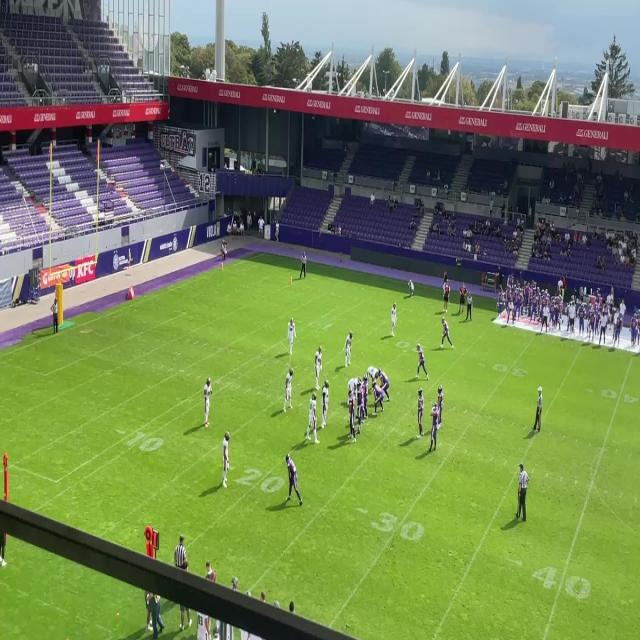1: (115, 427, 155, 450)
2: (232, 466, 262, 494)
3: (371, 504, 399, 543)
4: (533, 554, 559, 602)
american-football-players: (284, 452, 304, 509), (307, 392, 320, 447), (414, 341, 430, 381), (221, 430, 231, 490), (348, 390, 358, 446), (203, 377, 213, 431), (283, 367, 294, 415), (321, 377, 330, 434), (416, 386, 425, 442), (440, 315, 454, 351), (360, 378, 371, 423), (286, 316, 298, 356), (378, 368, 392, 401), (372, 384, 385, 416), (431, 402, 438, 455), (314, 344, 322, 389), (347, 375, 363, 397), (436, 385, 444, 428), (389, 302, 398, 339), (357, 381, 363, 436), (366, 363, 379, 387), (344, 331, 352, 365)
